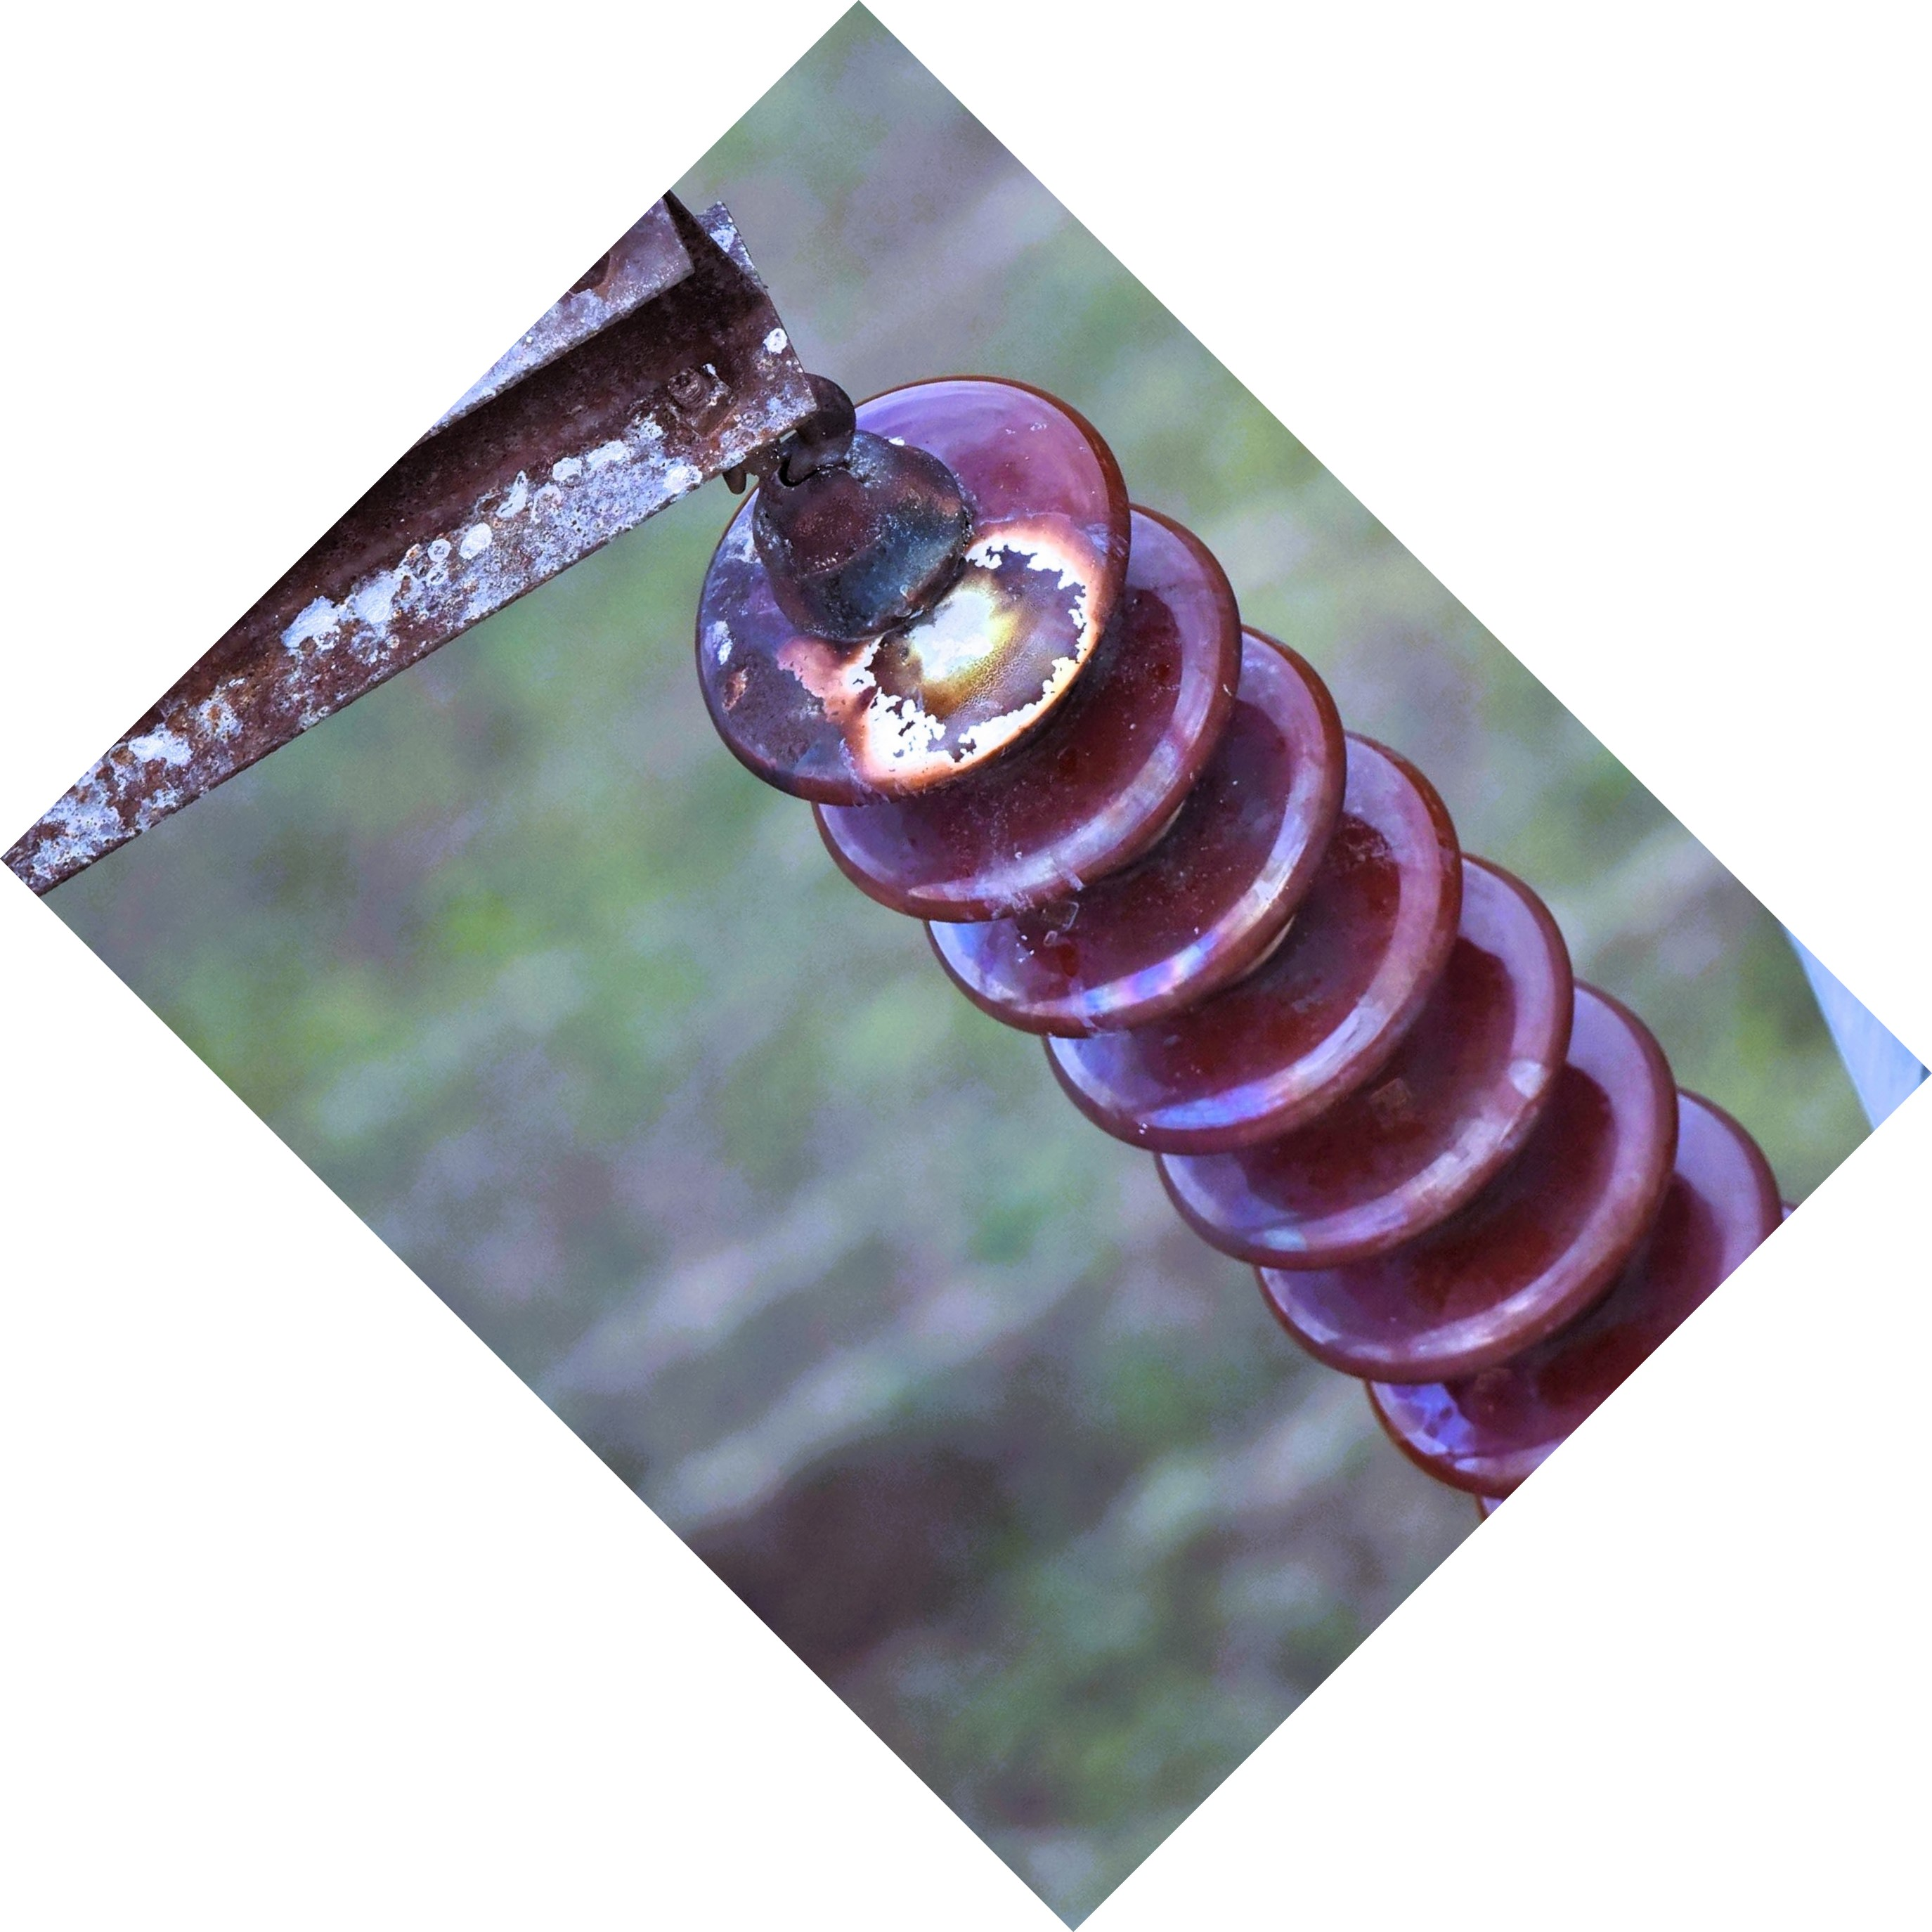Insulator flashover: (676, 356, 1148, 826)
